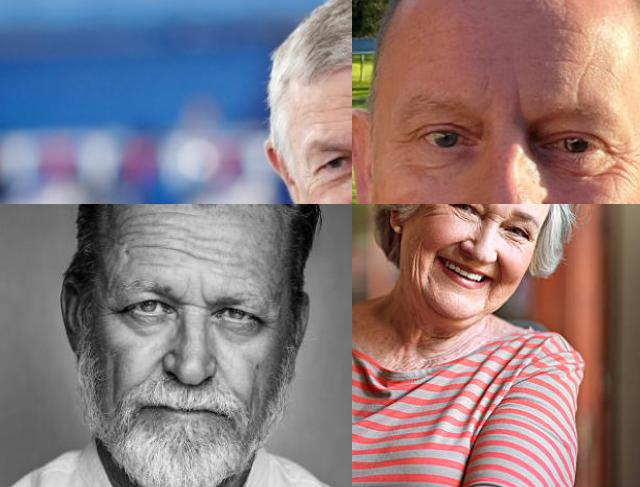bunny_line: (472, 221, 484, 237)
crows_feet: (606, 144, 630, 176), (392, 128, 420, 148), (301, 166, 319, 194), (431, 204, 448, 216)
forehead: (154, 220, 190, 260), (120, 212, 148, 254), (195, 234, 228, 268), (564, 63, 588, 100)
frown_line: (507, 86, 531, 118), (178, 294, 210, 314)
gummy_smile: (442, 237, 464, 249), (493, 250, 503, 270)
masseter: (409, 240, 425, 288), (105, 362, 125, 398)
sad_smile: (488, 273, 497, 304)
